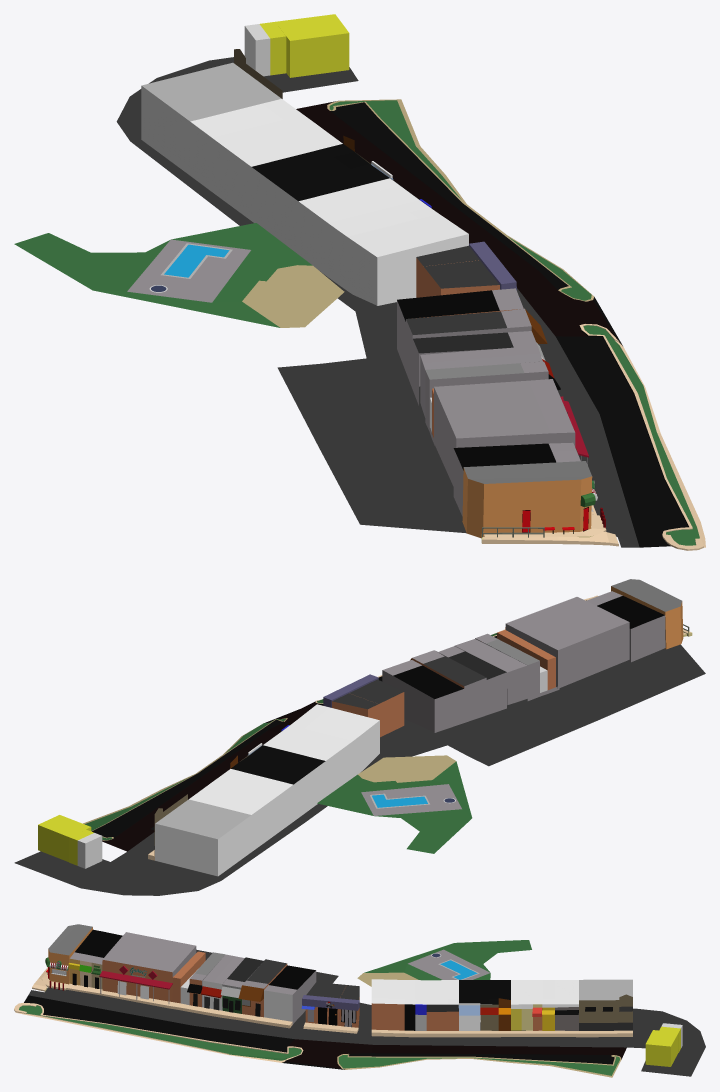
File: intshops.glb
3 views of the same model, one above another, from view 1: azimuth 30°, elevation 25°; view 2: azimuth 150°, elevation 25°; view 3: azimuth 270°, elevation 25° (orthographic). The views are drawn at different scales.
Parts seen in each view (by area): view 1: Cape Shopping Center; view 2: Cape Shopping Center; view 3: Cape Shopping Center.
Part boxes in pixels (left/top/right/bottom): Cape Shopping Center: left=14, top=14, right=705, bottom=550; Cape Shopping Center: left=14, top=579, right=705, bottom=895; Cape Shopping Center: left=14, top=924, right=705, bottom=1077.
Bounding box in the file's own units: 0.2559 × 0.0439 × 0.5638.
Materials: 61 (4 with a texture image).
